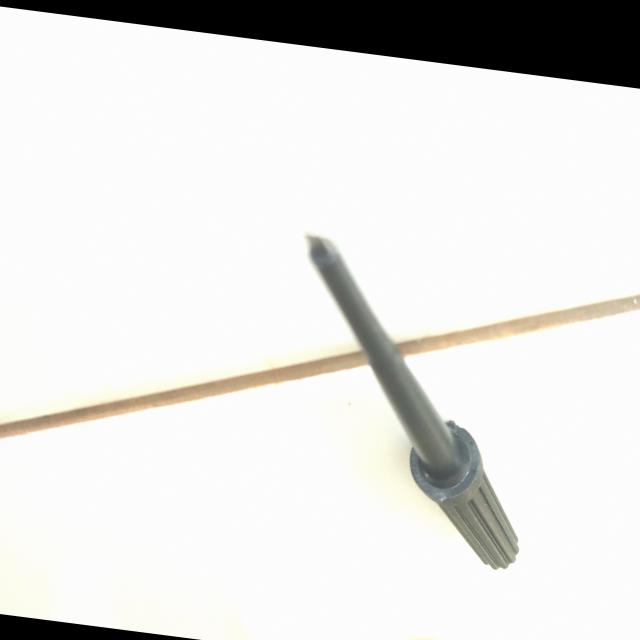Screw Driver: (273, 223, 542, 602)
